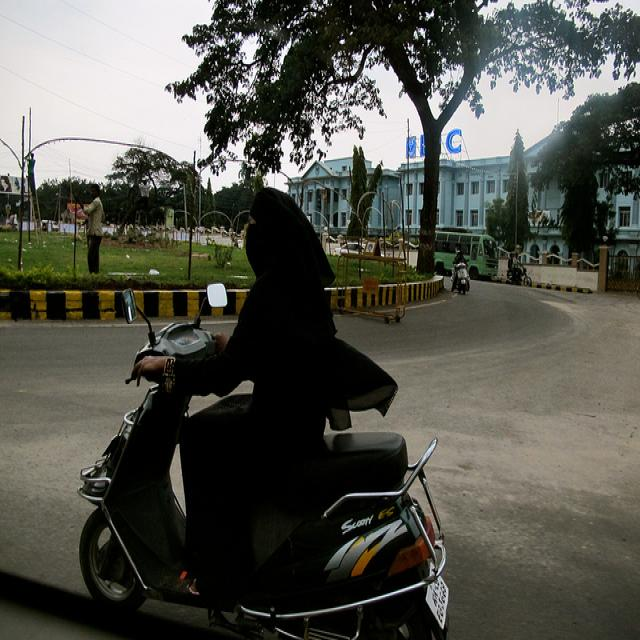motor: (79, 385, 453, 631), (451, 257, 470, 296), (506, 260, 531, 287)
